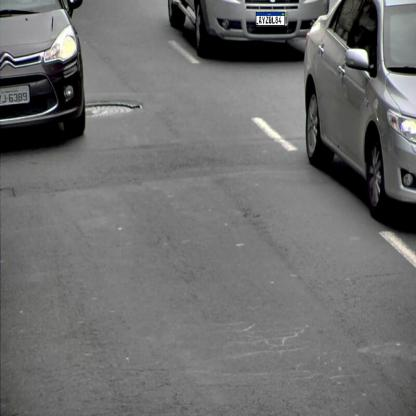PlacaM: (256, 12, 285, 26)
